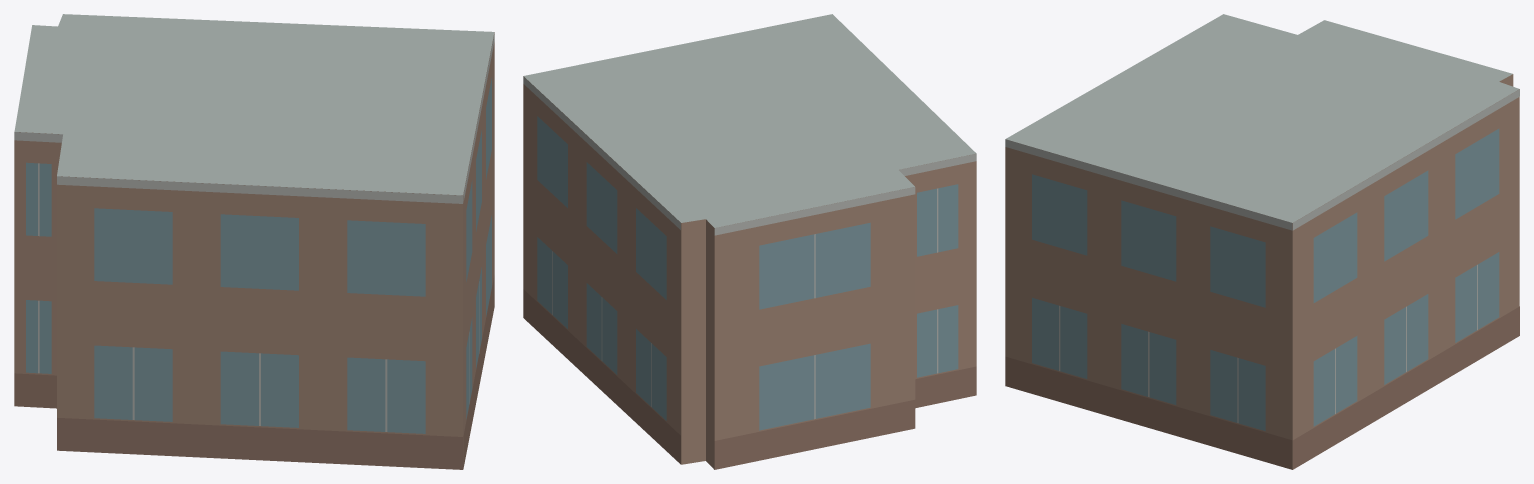
Rendered from survey-upis-32670193.glb.
3 views of the same model, side by side, from view 1: azimuth 30°, elevation 25°; view 2: azimuth 150°, elevation 25°; view 3: azimuth 270°, elevation 25° (orthographic). The views are drawn at different scales.
Visible parts, largest first — view 1: survey-upis-32670193.tmp; view 2: survey-upis-32670193.tmp; view 3: survey-upis-32670193.tmp.
Boxes of the visible parts, <box> form: survey-upis-32670193.tmp: <box>14,14,494,469</box>; survey-upis-32670193.tmp: <box>523,14,976,469</box>; survey-upis-32670193.tmp: <box>1005,14,1519,469</box>.
Bounding box in the file's own units: 14.17 × 7.8 × 14.74.
